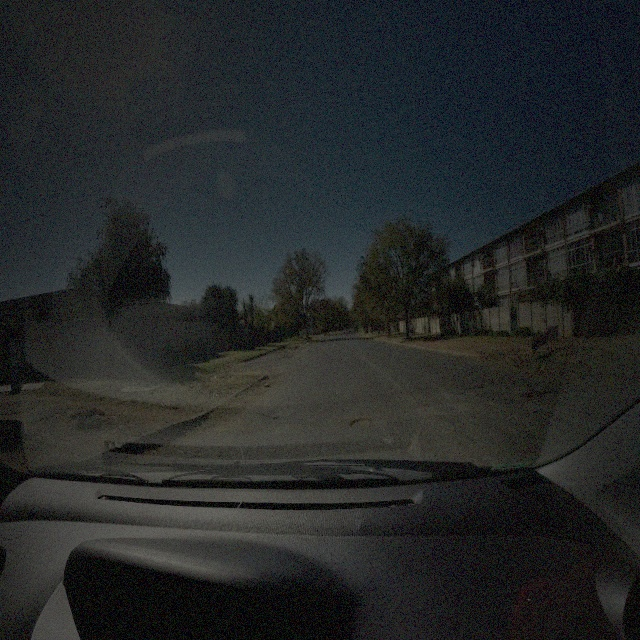pothole: (520, 385, 560, 402), (347, 413, 373, 428), (260, 412, 280, 421)
